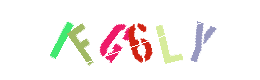6: (90, 0, 170, 80)
F: (75, 0, 155, 80)
G: (82, 0, 162, 80)
I: (21, 0, 101, 80)
L: (99, 0, 179, 80)
Y: (156, 0, 236, 80)
